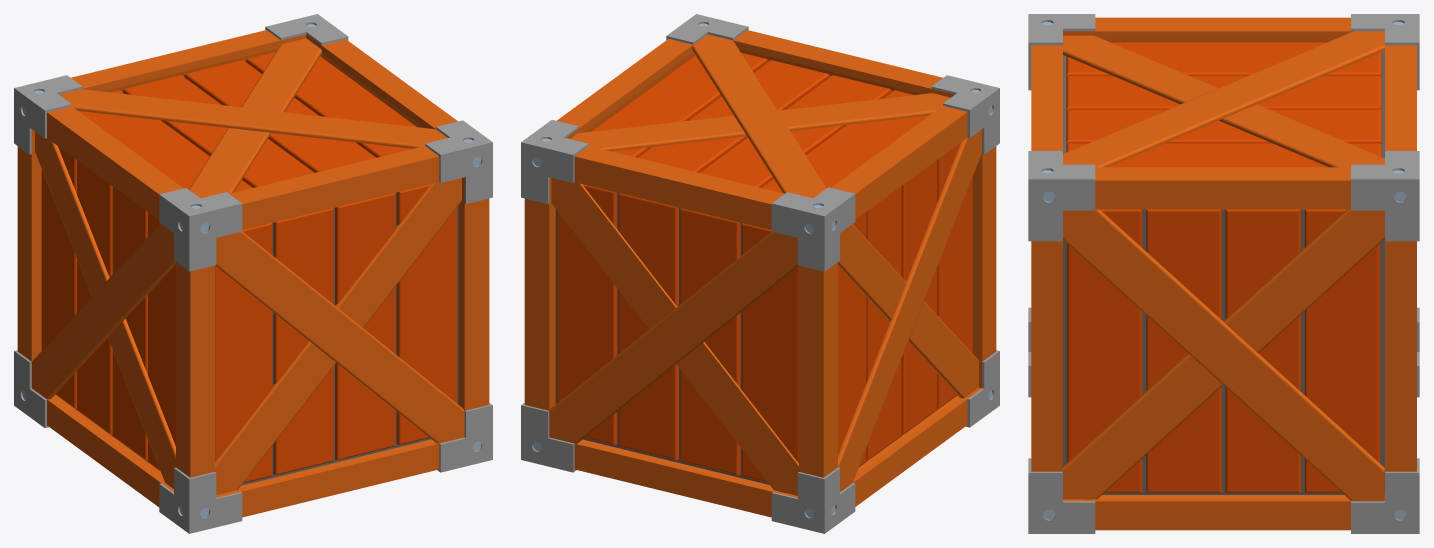
File: 4x2 metalni cosak kutija final.fbx
3 views of the same model, side by side, from view 1: azimuth 30°, elevation 25°; view 2: azimuth 150°, elevation 25°; view 3: azimuth 270°, elevation 25° (orthographic). The views are drawn at different scales.
Parts seen in each view (by area): view 1: Cube.212; view 2: Cube.212; view 3: Cube.212.
Part boxes in pixels (bbox=[...]): Cube.212: bbox=[14, 14, 492, 533]; Cube.212: bbox=[521, 14, 999, 533]; Cube.212: bbox=[1028, 14, 1419, 533].
Bounding box in the file's own units: 203 × 203 × 203.
